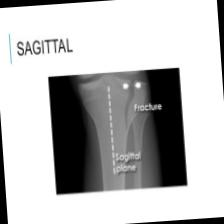longitudinal-fracture: (74, 68, 158, 192)
